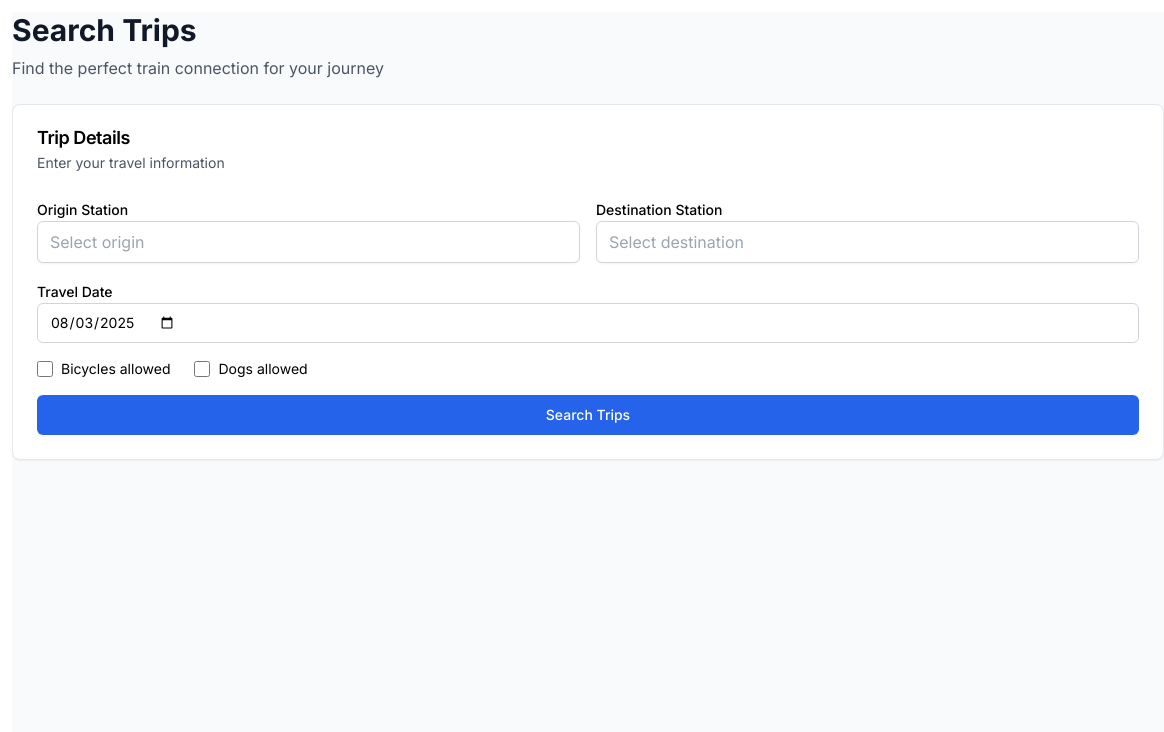
Scenario: Search Page › should display search results
Perform search
Click the button "Select origin" at (97, 242), box 37,221 -> 580,263
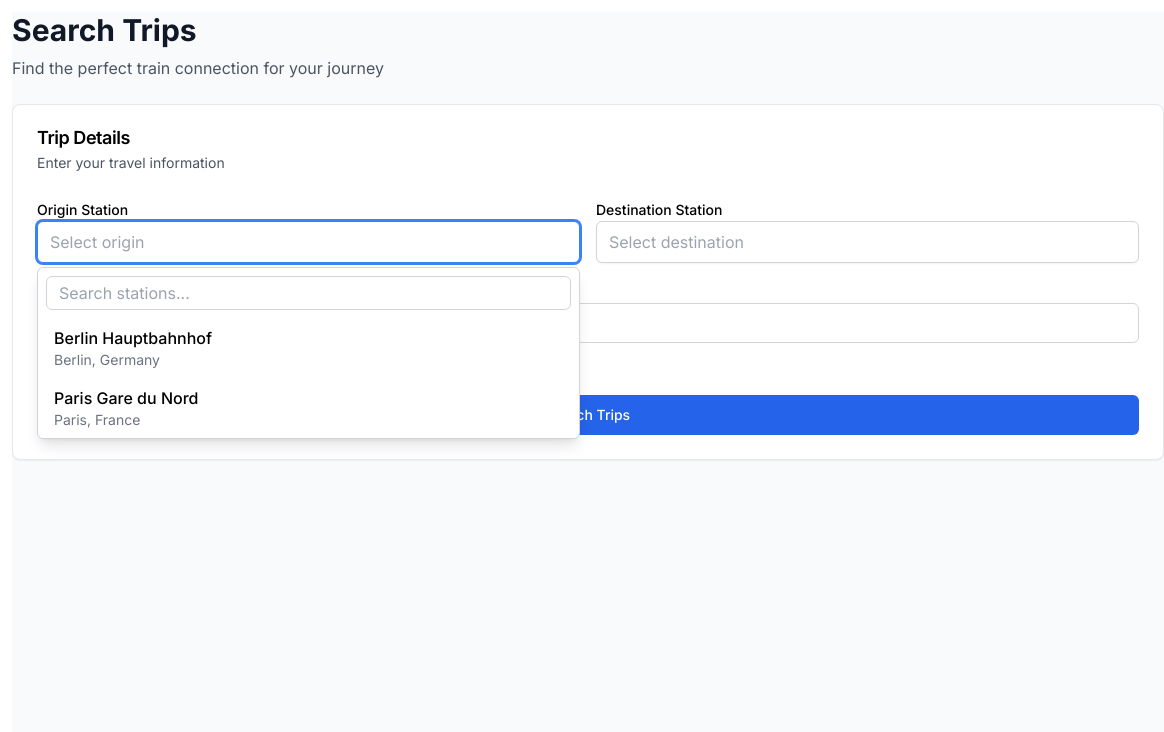
Expected: the field with placeholder "Search stations..." is shown, 46,276 -> 571,310
Click the text "Berlin Hauptbahnhof" at (133, 338), box 54,328 -> 212,348
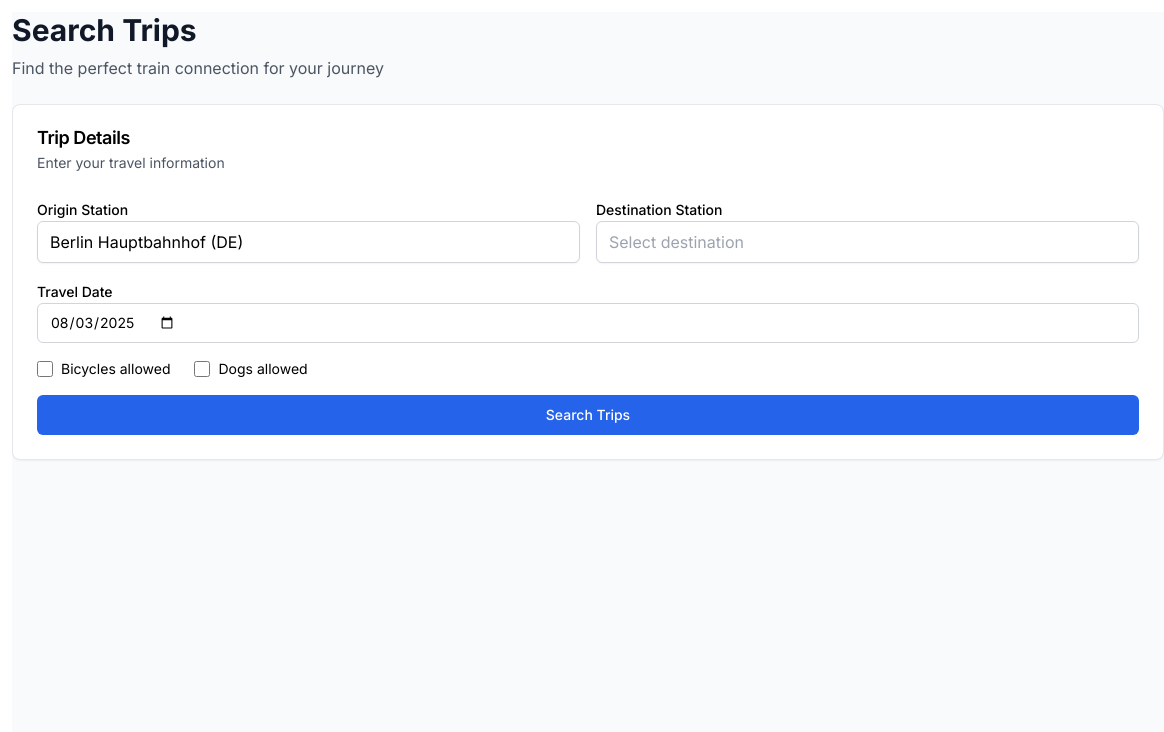
Click the button "Select destination" at (676, 242), box 596,221 -> 1139,263
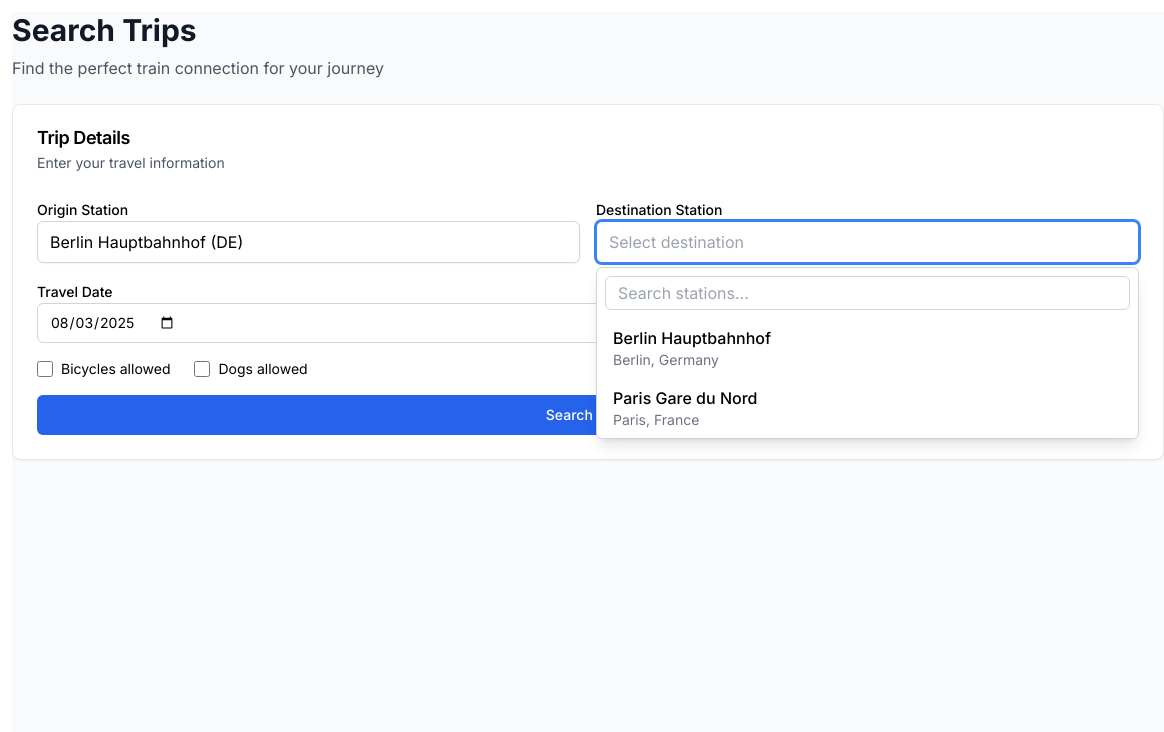
Expected: the field with placeholder "Search stations..." is shown, 605,276 -> 1130,310
Click the text "Paris Gare du Nord" at (685, 398), box 613,388 -> 757,408
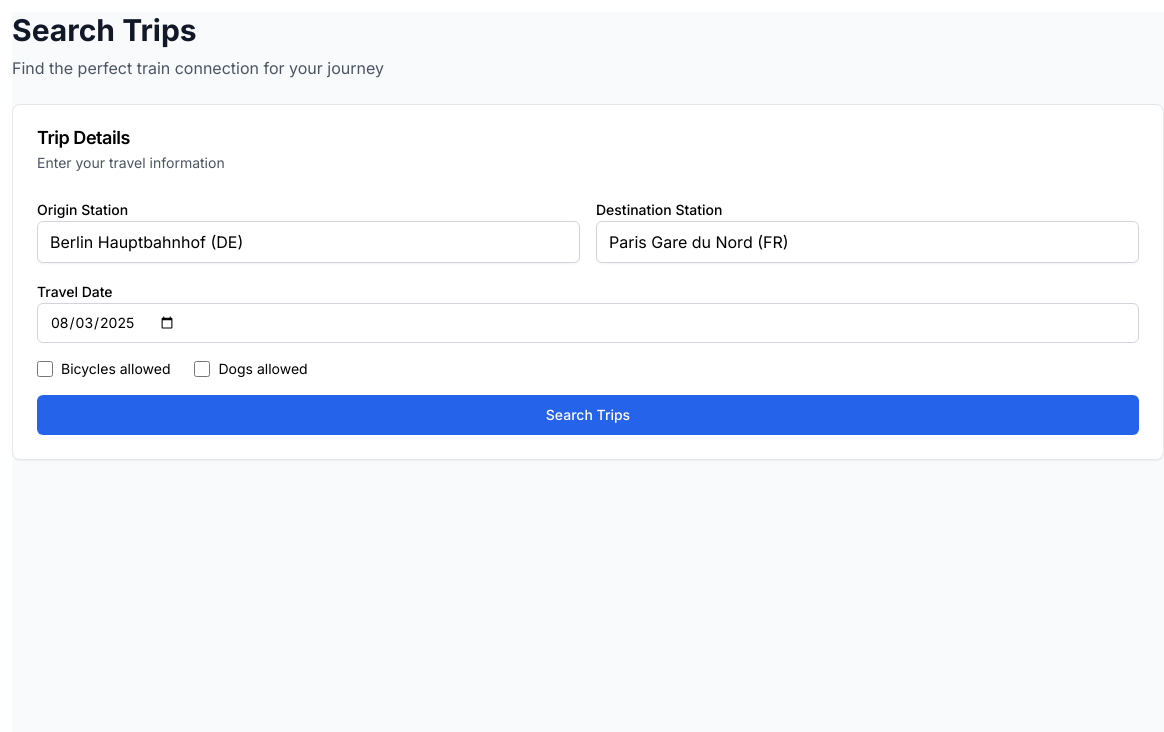
Click the button "Search Trips" at (588, 415), box 37,395 -> 1139,435
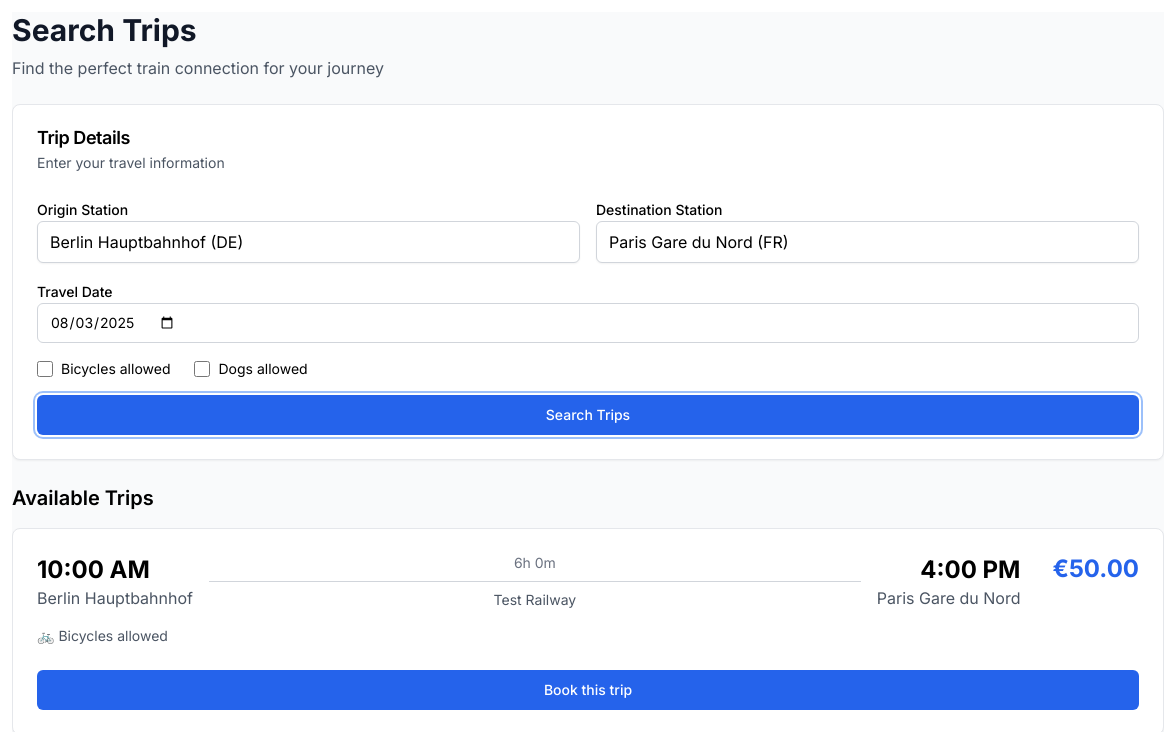
Expected: the heading "Available Trips" is shown, 12,486 -> 154,510
Expected: the text "Test Railway" is shown, 494,591 -> 576,608
Expected: the text "€50.00" is shown, 1052,553 -> 1139,585
